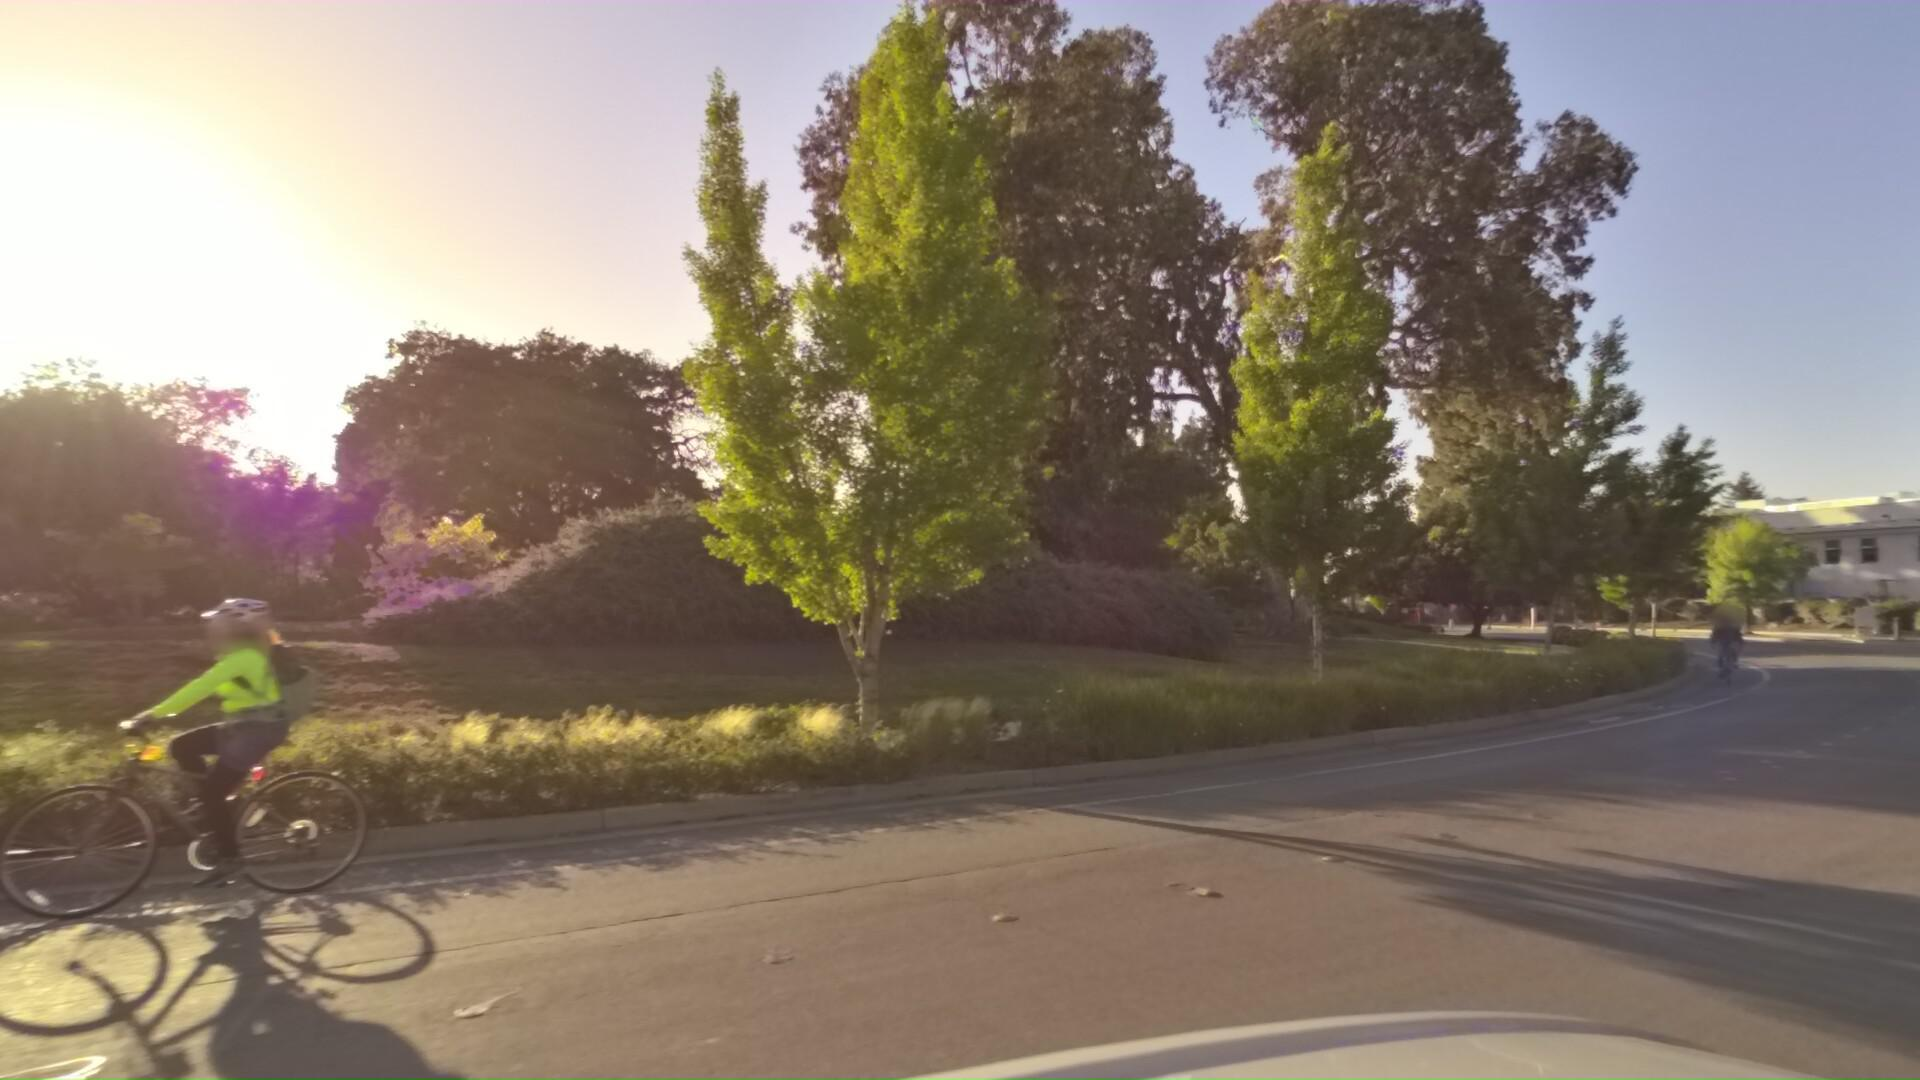bicycle: (0, 574, 286, 981), (1692, 600, 1742, 688)
